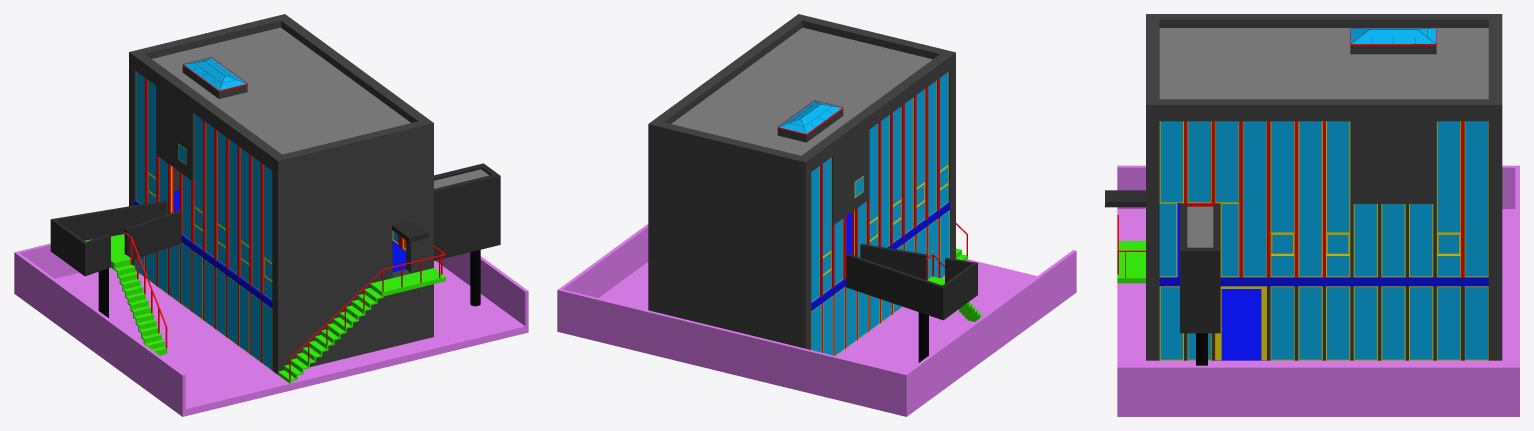
The model's file is zhanguan2.FBX.
3 renders of one model, left to right at view 1: azimuth 30°, elevation 25°; view 2: azimuth 150°, elevation 25°; view 3: azimuth 270°, elevation 25°, orthographic. The views are drawn at different scales.
Visible parts, largest first — view 1: ground_01, ceiling_09, wall_27, wall_21, wall_03, wall_26, wall_19, wall_07, detail_10, wall_28, detail_16, wall_04 (+38 smaller); view 2: wall_02, ceiling_09, wall_29, wall_31, wall_03, ground_01, wall_32, wall_06, wall_07, wall_30, detail_16, wall_20 (+28 smaller); view 3: ceiling_09, wall_20, wall_08, ground_01, wall_22, wall_07, glass_38, glass_28, glass_42, wall_18, detail_04, ceiling_05 (+49 smaller).
Part boxes in pixels (box(x1,y1,x2,y2)): ground_01: box(55, 261, 525, 415); ceiling_09: box(152, 27, 410, 154); wall_27: box(272, 137, 433, 243); wall_21: box(272, 206, 433, 312); wall_03: box(14, 252, 185, 416); wall_26: box(272, 284, 433, 374); wall_19: box(434, 175, 500, 260); wall_07: box(134, 54, 281, 170); detail_10: box(278, 268, 445, 383); wall_28: box(272, 119, 433, 174); detail_16: box(203, 120, 263, 294); wall_04: box(156, 86, 194, 181); wall_02: box(557, 289, 906, 416); ceiling_09: box(671, 27, 932, 155); wall_29: box(648, 138, 811, 245); wall_31: box(648, 207, 811, 315); wall_03: box(905, 250, 1076, 416); ground_01: box(598, 259, 1036, 372); wall_32: box(648, 277, 811, 349); wall_06: box(846, 253, 943, 319); wall_07: box(801, 54, 950, 171); wall_30: box(648, 120, 811, 176); detail_16: box(878, 78, 939, 246); wall_20: box(558, 224, 648, 297); ceiling_09: box(1159, 28, 1488, 99); wall_20: box(1117, 365, 1519, 416); wall_08: box(1159, 99, 1488, 121); ground_01: box(1117, 209, 1515, 365); wall_22: box(1350, 121, 1436, 203); wall_07: box(1159, 14, 1488, 27); glass_38: box(1243, 121, 1266, 276); glass_28: box(1465, 121, 1487, 276); glass_42: box(1299, 121, 1321, 276); wall_18: box(1180, 247, 1220, 333); detail_04: box(1180, 121, 1325, 277); ceiling_05: box(1159, 203, 1488, 286).
Size of the model in its own units: 620 by 390 by 538.
